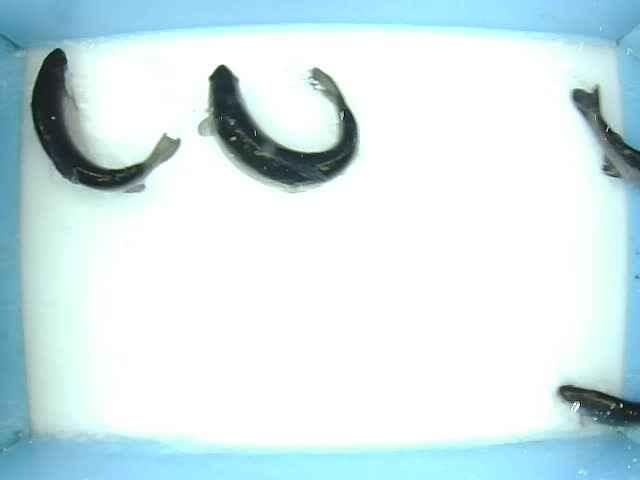fish: (195, 61, 381, 218), (25, 41, 174, 221)
